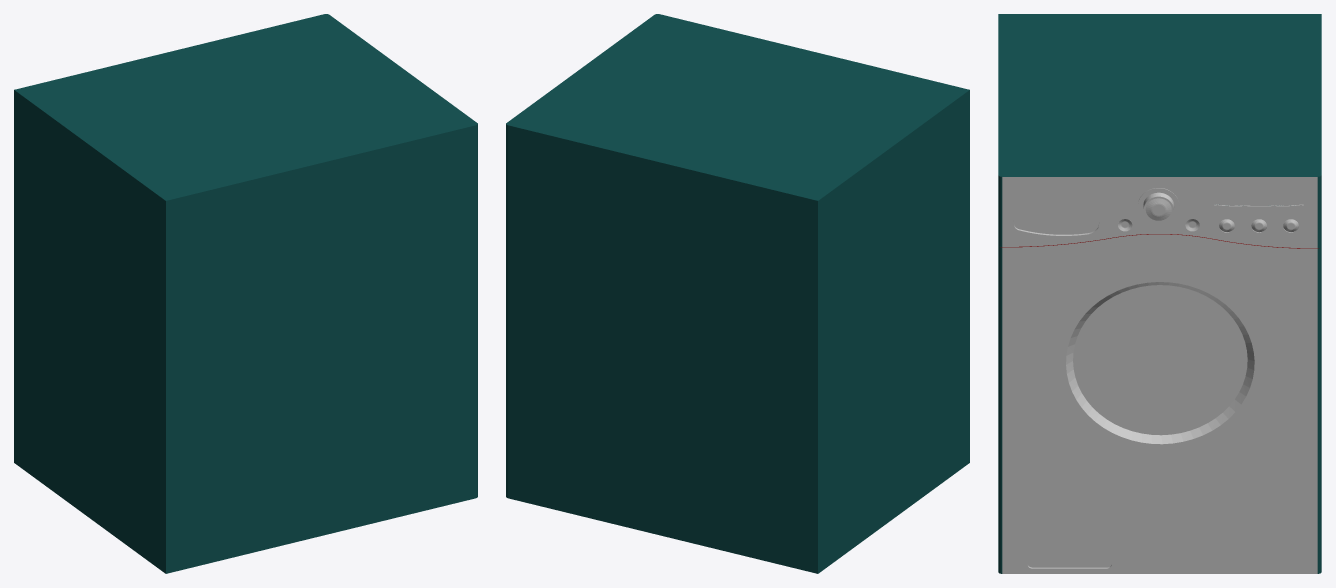
The picture shows the model from 3 angles, left to right: view 1: azimuth 30°, elevation 25°; view 2: azimuth 150°, elevation 25°; view 3: azimuth 270°, elevation 25°; orthographic projection. The views are drawn at different scales.
Visible parts, largest first — view 1: mesh8_mesh8-geometry; view 2: mesh8_mesh8-geometry; view 3: mesh8_mesh8-geometry, mesh3_mesh3-geometry, mesh1_mesh1-geometry.
Boxes of the visible parts, box(x1,y1,x2,y2) form: mesh8_mesh8-geometry: box(14, 14, 477, 573); mesh8_mesh8-geometry: box(506, 14, 969, 573); mesh8_mesh8-geometry: box(998, 14, 1321, 573); mesh3_mesh3-geometry: box(1073, 285, 1247, 435); mesh1_mesh1-geometry: box(1145, 198, 1171, 220).
Bounding box in the file's own units: 0.5879 × 0.651 × 0.4802.
